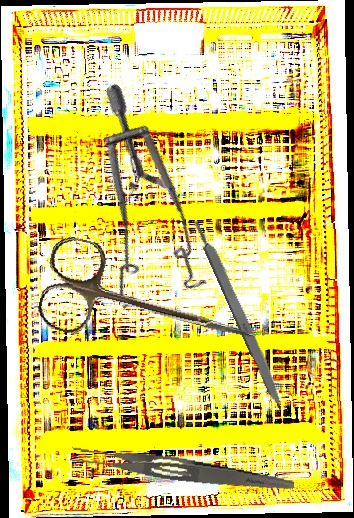Dressing Forceps: (69, 442, 296, 495)
Iris Scissors: (33, 233, 269, 377)
Scalpel Handle: (190, 215, 290, 413)
Speculum: (7, 81, 255, 336)
